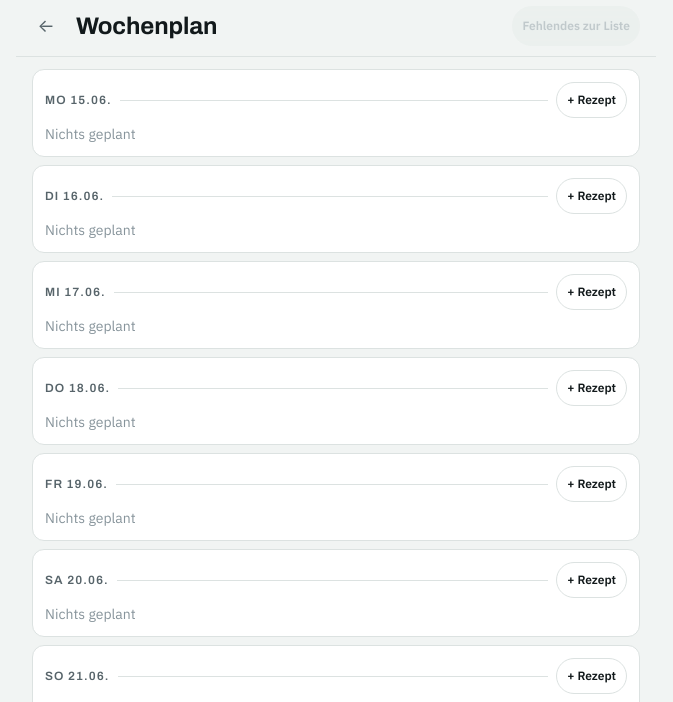
Scenario: MealPlan › adding a recipe to a day › offers every recipe, searchable
Click the button "+ Rezept" in the row of "Mo 15.06." at (592, 100), box [556,82,627,118]
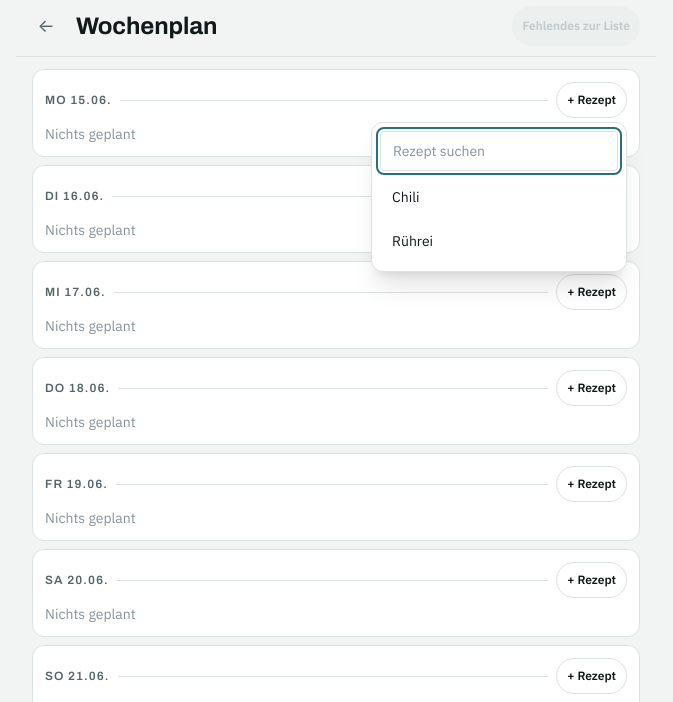
Expected: the button "Chili" is shown, [380,175,618,219]
Type "rühr" into the search field labelled "Rezept suchen" at (499, 151), box [380,131,618,171]
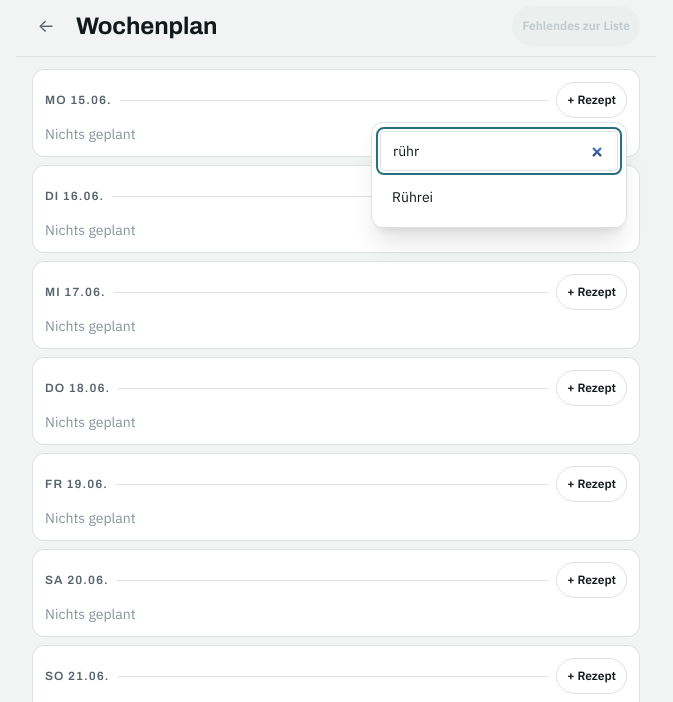
Expected: the button "Rührei" is shown, [380,175,618,219]
Expected: the button "Chili" is gone
